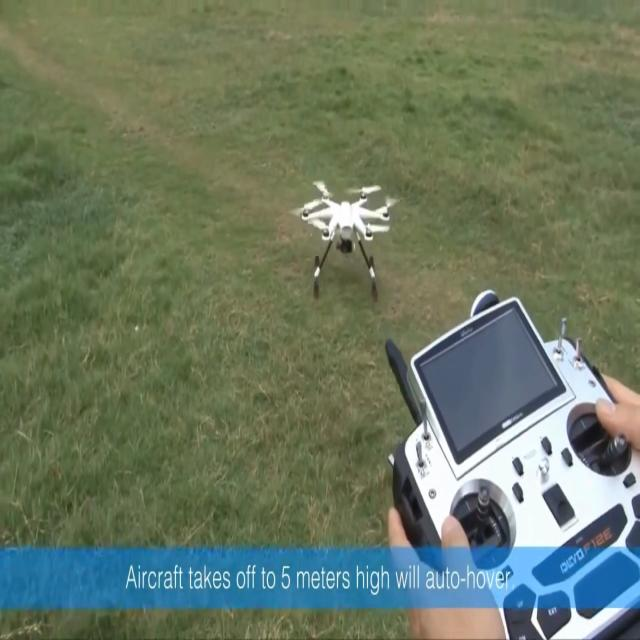drone: (289, 179, 400, 303)
